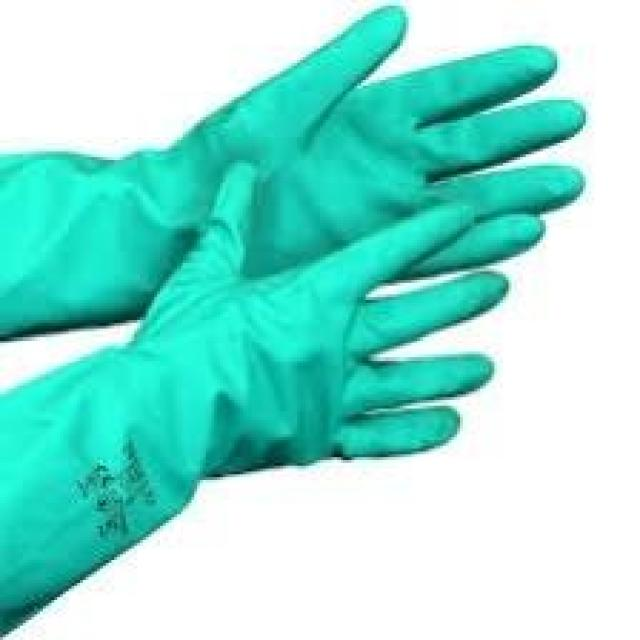Glove: (0, 0, 606, 640)
